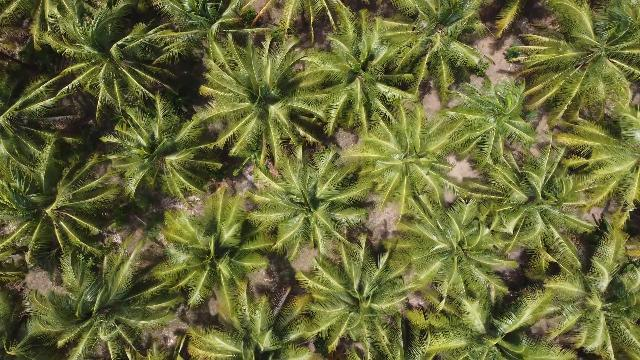trees: (453, 134, 616, 283), (19, 228, 188, 360), (505, 4, 640, 136), (197, 33, 326, 171), (300, 8, 425, 140), (297, 230, 422, 360), (357, 95, 475, 227), (248, 147, 379, 265), (152, 192, 275, 315), (396, 200, 512, 320), (100, 92, 219, 203), (2, 127, 124, 229), (442, 75, 540, 170), (2, 68, 95, 168), (43, 2, 141, 72), (146, 3, 253, 59), (265, 2, 346, 49), (2, 209, 58, 276)
